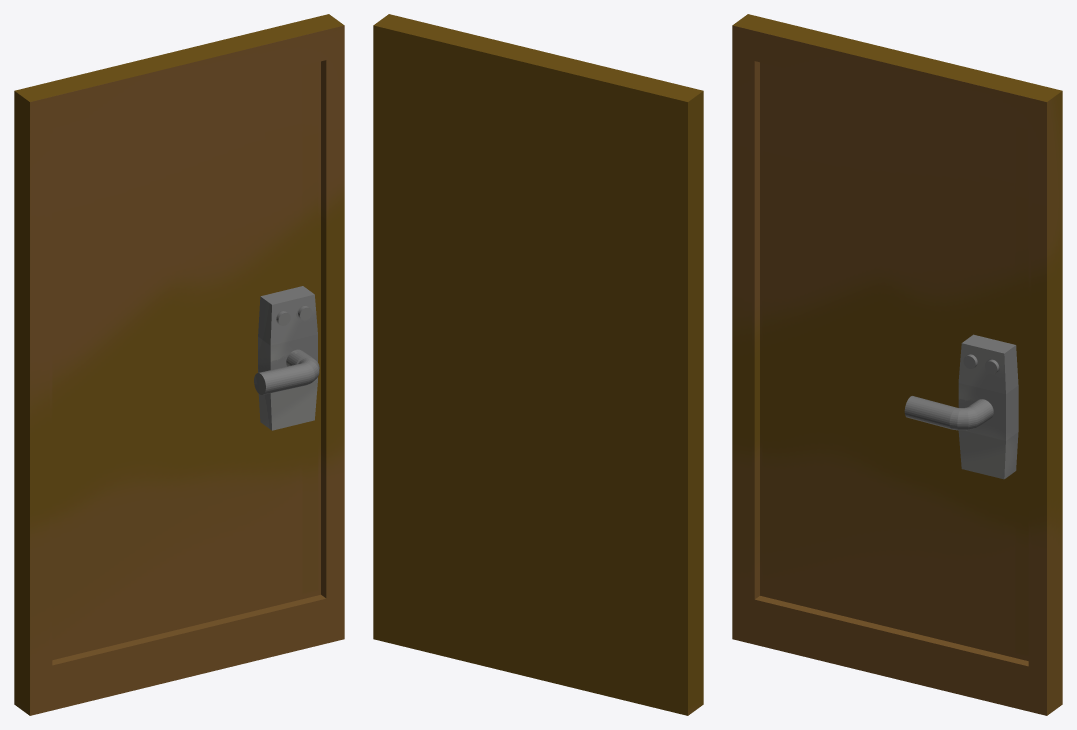
Rendered from vrata.glb.
3 renders of one model, left to right at view 1: azimuth 30°, elevation 25°; view 2: azimuth 150°, elevation 25°; view 3: azimuth 330°, elevation 25°, orthographic.
Parts seen in each view (by area): view 1: Cube, Cube.001; view 2: Cube; view 3: Cube, Cube.001.
Part boxes in pixels (x1,y1,x2,y2): Cube: (14,14,344,715); Cube.001: (254,286,319,430); Cube: (373,14,703,715); Cube: (732,14,1062,715); Cube.001: (904,334,1018,479).
Size of the model in its own units: 3.8 by 7.08 by 0.9913.
Materials: 2 (2 with a texture image).
